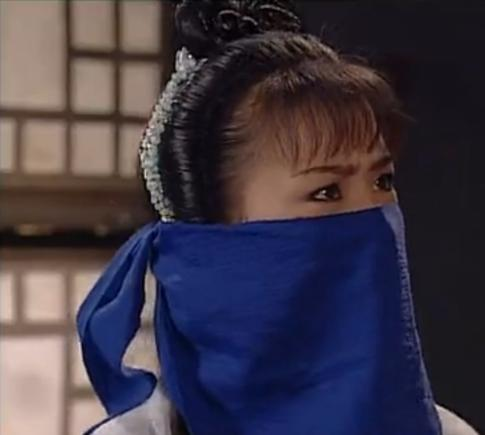OK: (257, 151, 414, 339)
